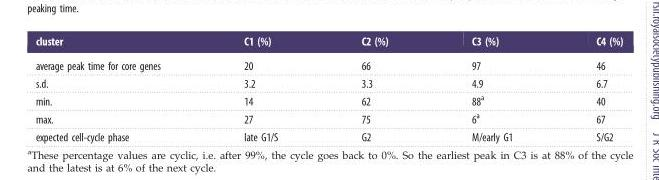table: (34, 34, 622, 143)
table column: (34, 34, 201, 143), (429, 34, 553, 143), (201, 34, 318, 143), (318, 34, 429, 143), (553, 34, 622, 143)
table column header: (34, 34, 622, 53)
table row: (34, 53, 622, 74), (34, 34, 622, 53), (34, 108, 622, 127), (34, 74, 622, 91), (34, 91, 622, 108), (34, 127, 622, 143)
